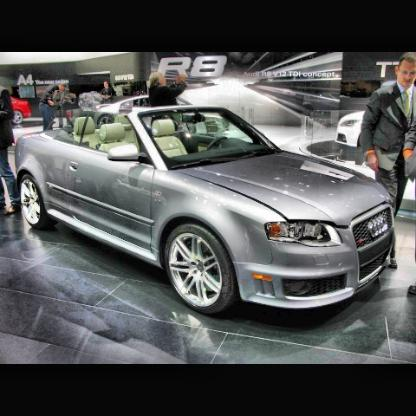Audi RS 4 Convertible 2008: (18, 107, 397, 317)
